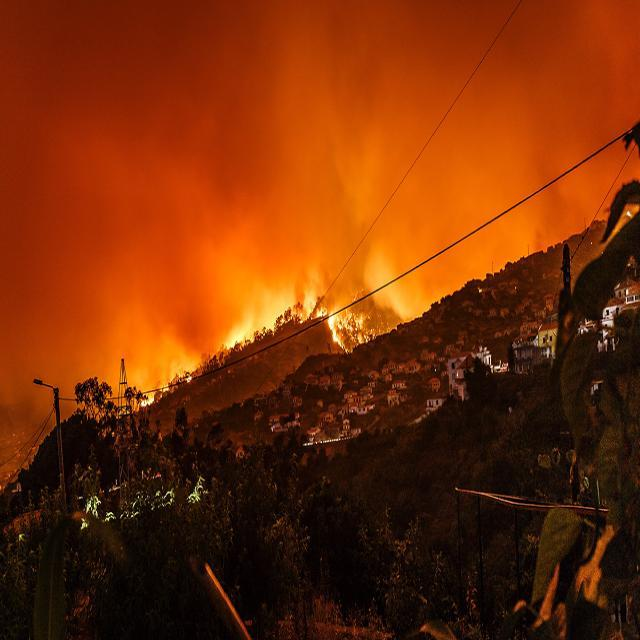Fire: (307, 299, 371, 367), (222, 321, 267, 373), (136, 386, 158, 420)
Smoke: (0, 1, 640, 292), (2, 274, 154, 356)
